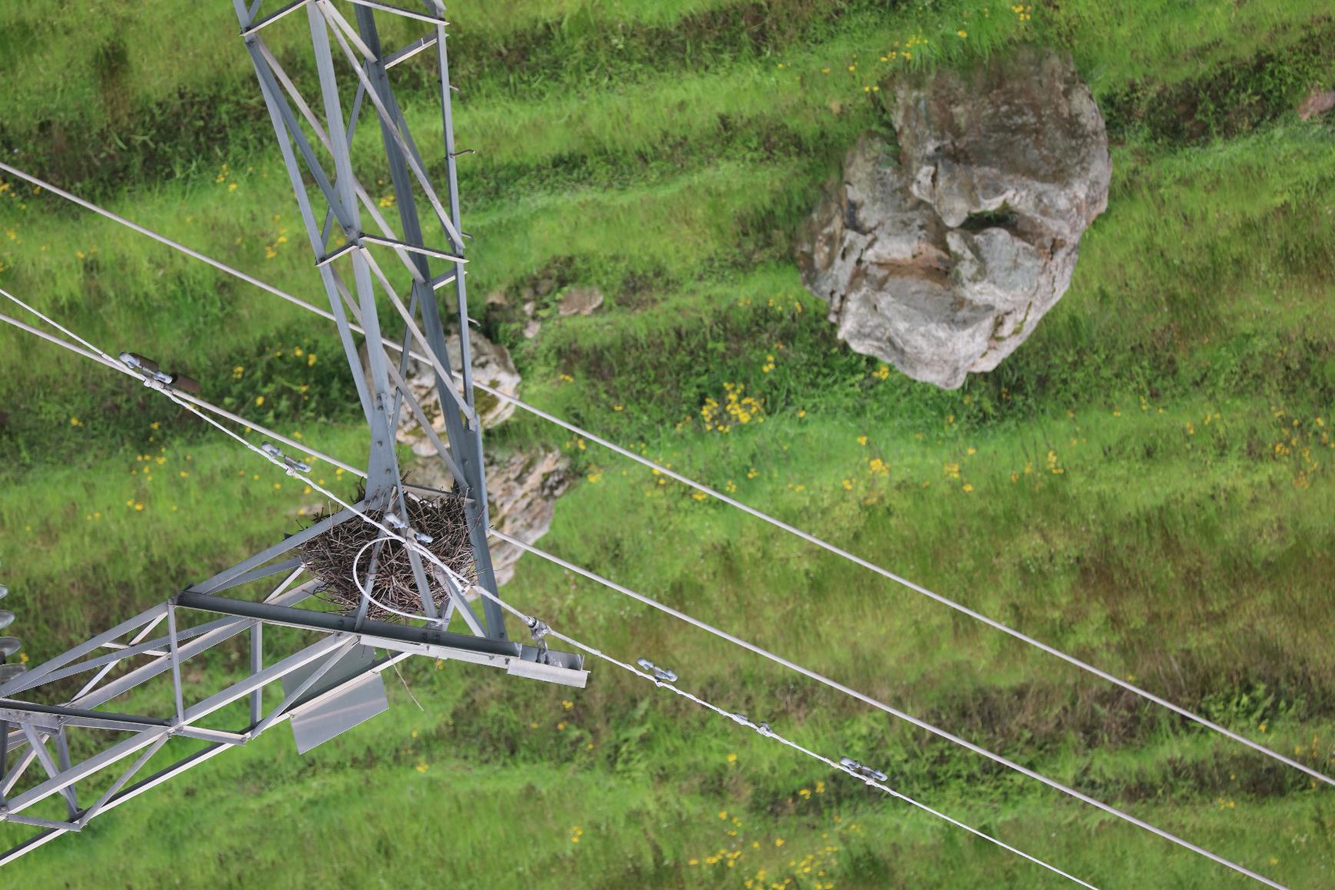damper: (128, 349, 205, 397), (111, 348, 177, 388), (377, 508, 437, 549), (254, 438, 316, 477), (835, 752, 890, 785), (632, 653, 680, 690)
nest: (297, 487, 474, 623)
